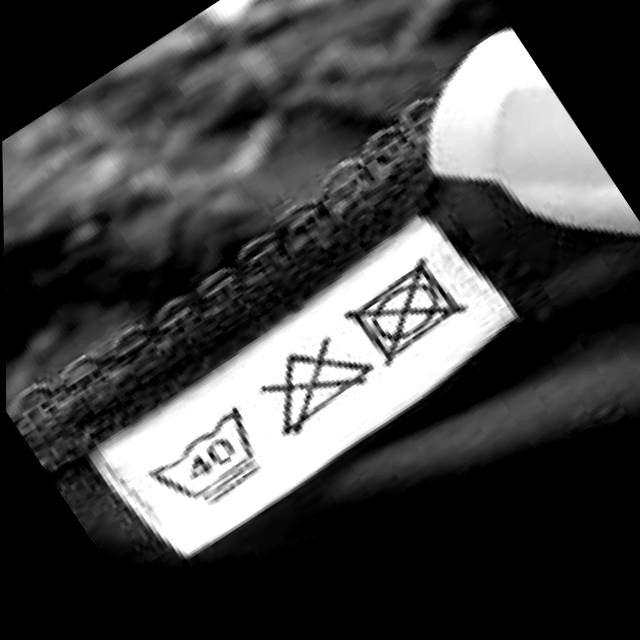40C: (148, 410, 263, 506)
DN_bleach: (265, 341, 371, 431)
DN_tumble_dry: (353, 271, 458, 358)
